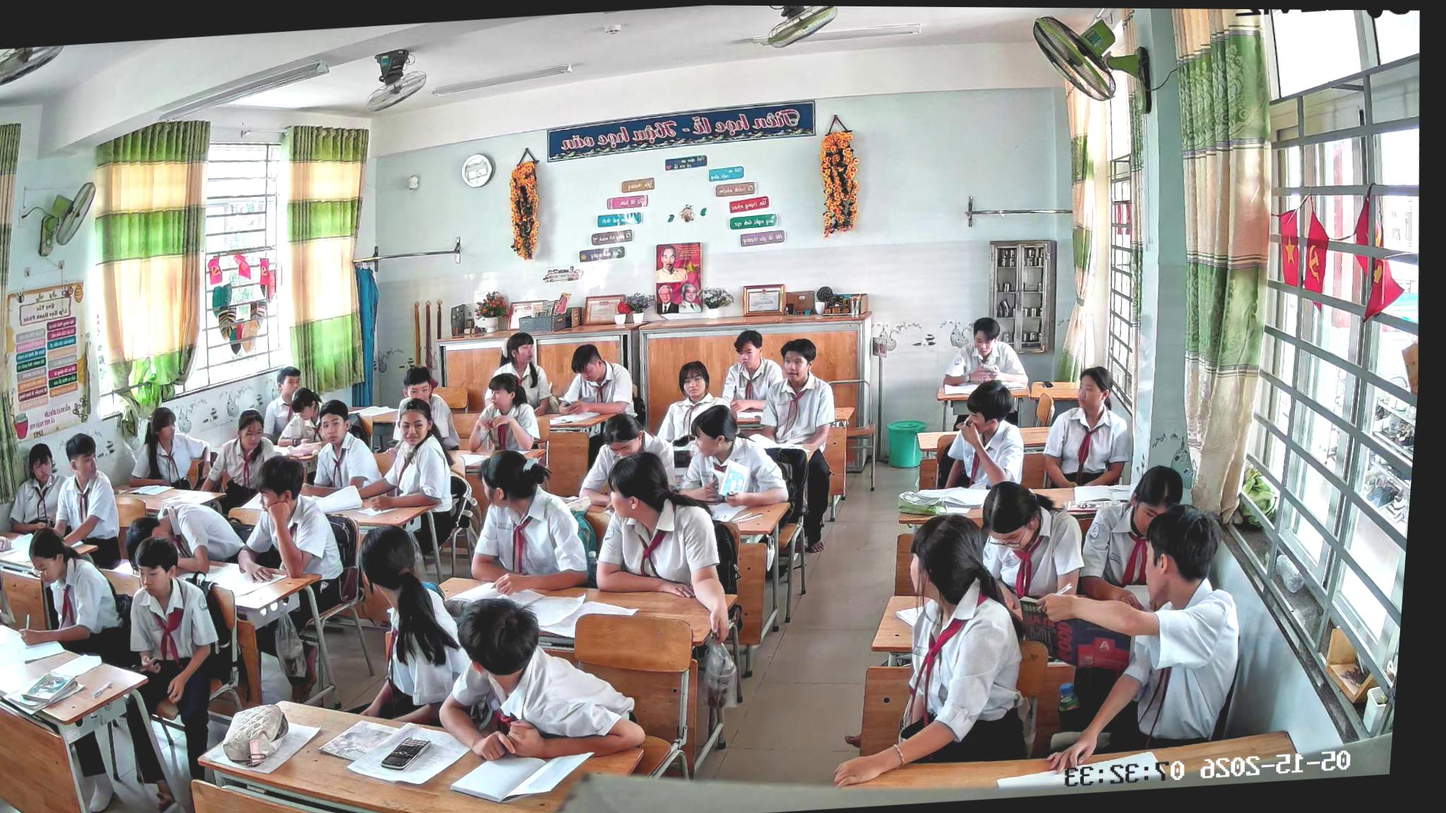person: (1015, 499, 1259, 774), (815, 509, 1047, 790), (429, 589, 655, 766), (104, 533, 239, 812), (582, 446, 743, 654), (340, 516, 485, 733), (741, 337, 850, 554), (223, 452, 358, 613), (460, 444, 600, 598), (5, 523, 137, 681), (1068, 463, 1196, 607), (970, 477, 1092, 616), (670, 401, 796, 517), (350, 395, 464, 520), (1033, 364, 1140, 491), (40, 431, 131, 574), (934, 314, 1037, 430), (571, 409, 680, 516), (116, 497, 249, 580), (937, 379, 1030, 491), (188, 407, 284, 513), (294, 397, 387, 496), (645, 358, 736, 453), (122, 404, 217, 493), (0, 441, 83, 537), (476, 330, 560, 421), (552, 341, 641, 426), (391, 364, 468, 455), (462, 371, 545, 454), (715, 328, 789, 414), (254, 365, 306, 444), (273, 386, 330, 448), (0, 544, 8, 636)
